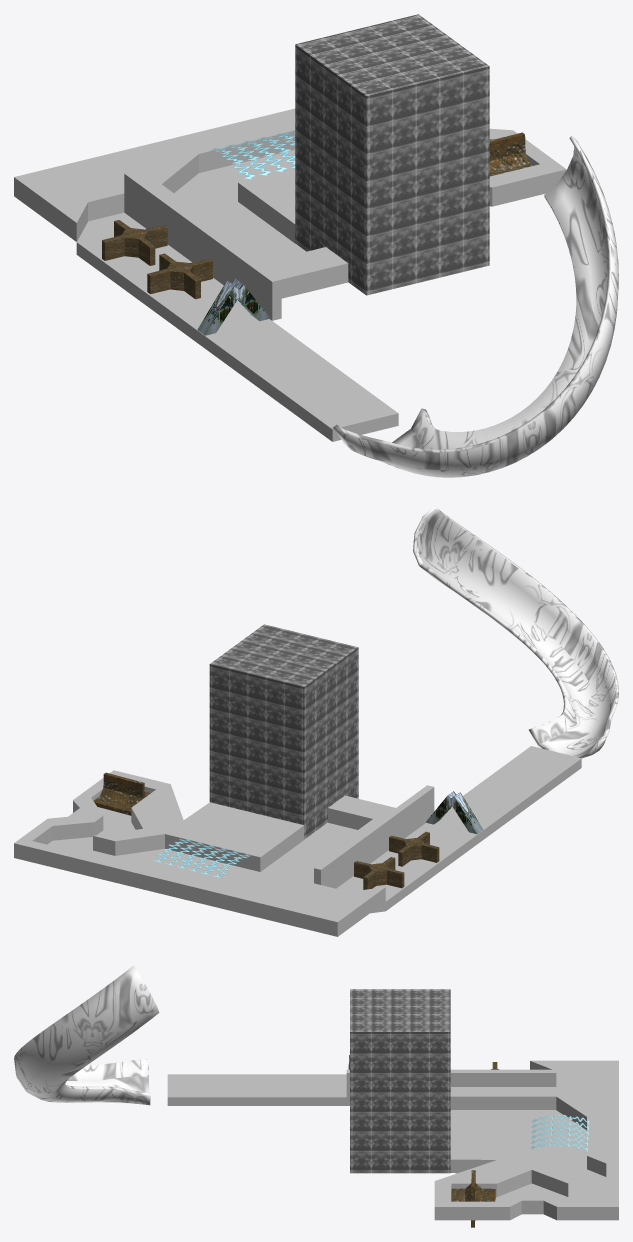
The model's file is city.gltf.
The picture shows the model from 3 angles, top to bottom: view 1: azimuth 30°, elevation 25°; view 2: azimuth 150°, elevation 25°; view 3: azimuth 270°, elevation 25°; orthographic projection. The views are drawn at different scales.
Visible parts, largest first — view 1: Platform-col, block-col, spiral-col, revolve2-col, revolve3-col, gate-col, bridge-col, revolve1-col; view 2: Platform-col, block-col, spiral-col, revolve1-col, bridge-col, revolve2-col, revolve3-col, gate-col; view 3: Platform-col, block-col, spiral-col, bridge-col, revolve1-col.
Boxes of the visible parts, x1,y1,x2,y2 form: Platform-col: (14, 108, 566, 441); block-col: (295, 14, 489, 295); spiral-col: (332, 135, 618, 477); revolve2-col: (102, 220, 167, 265); revolve3-col: (147, 253, 212, 299); gate-col: (197, 278, 269, 335); bridge-col: (210, 130, 295, 179); revolve1-col: (489, 132, 532, 176); Platform-col: (14, 746, 581, 936); block-col: (209, 624, 358, 839); spiral-col: (413, 506, 618, 758); revolve1-col: (93, 772, 150, 815); bridge-col: (153, 838, 251, 877); revolve2-col: (354, 857, 404, 889); revolve3-col: (389, 831, 439, 866); gate-col: (426, 791, 483, 834); Platform-col: (167, 1060, 618, 1220); block-col: (350, 989, 450, 1173); spiral-col: (14, 965, 159, 1105); bridge-col: (531, 1115, 589, 1151); revolve1-col: (451, 1170, 495, 1227).
Size of the model in its own units: 59.27 by 36.28 by 101.
